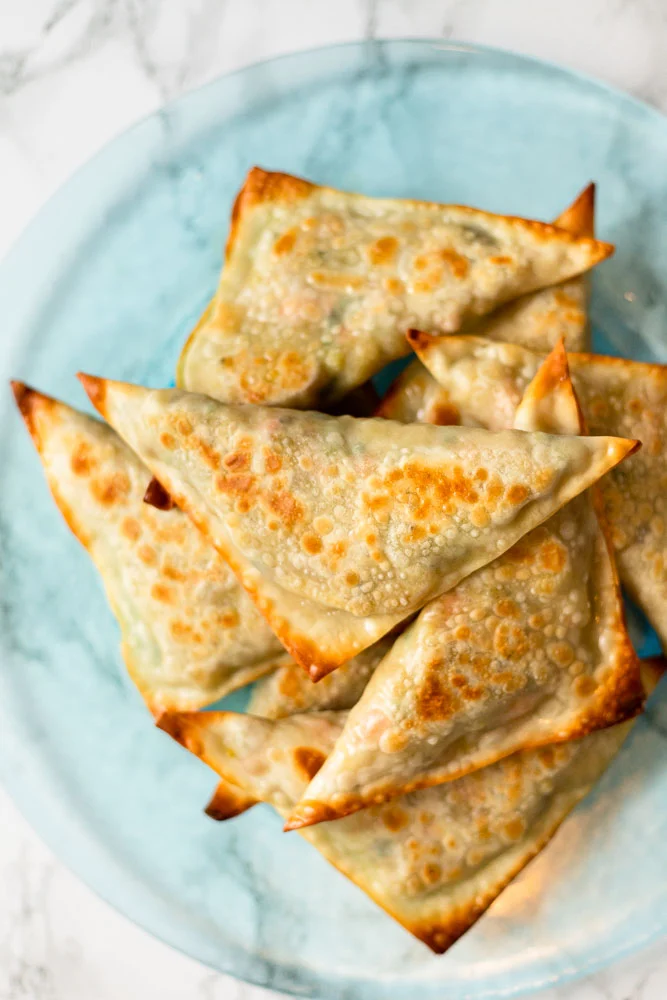samosa: (82, 370, 645, 592), (288, 592, 648, 840), (5, 373, 218, 748), (198, 160, 628, 338)
